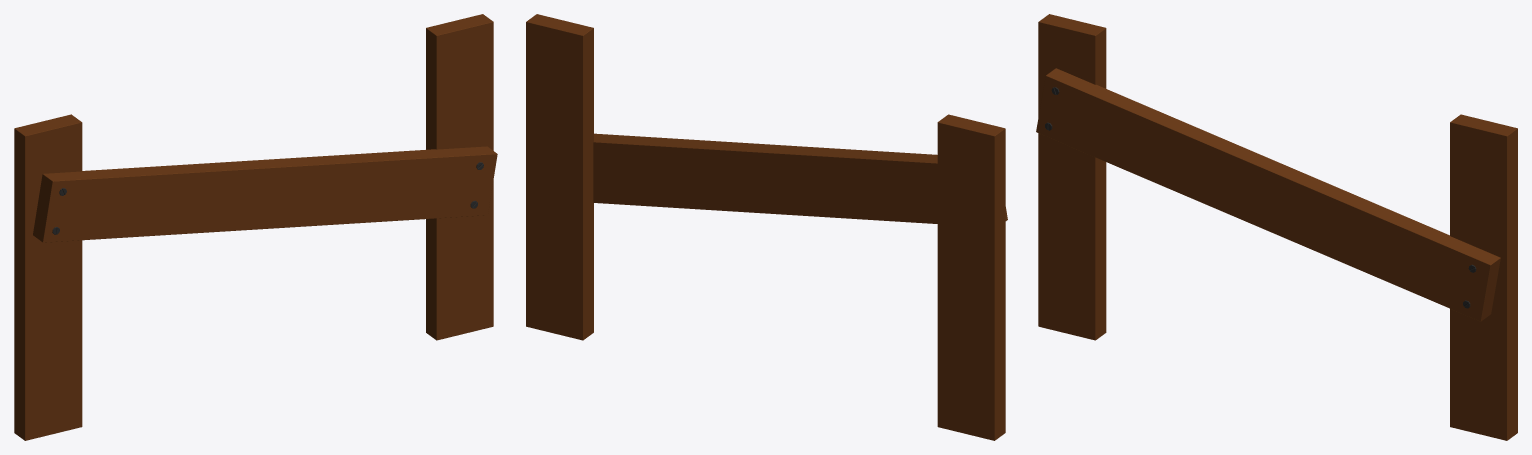
Rendered from fence5.obj.
3 renders of one model, left to right at view 1: azimuth 30°, elevation 25°; view 2: azimuth 150°, elevation 25°; view 3: azimuth 330°, elevation 25°, orthographic.
Visible parts, largest first — view 1: Fence5; view 2: Fence5; view 3: Fence5.
Part boxes in pixels (x1,y1,x2,y2): Fence5: [14, 14, 497, 440]; Fence5: [526, 14, 1007, 440]; Fence5: [1036, 14, 1517, 440].
Size of the model in its own units: 3.51 by 2.18 by 0.2806.
